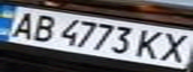3: (112, 24, 139, 56)
4: (54, 16, 81, 47)
7: (90, 20, 115, 53), (72, 19, 96, 51)
A: (0, 9, 42, 39)
B: (24, 12, 60, 43)
K: (133, 27, 172, 61)
X: (154, 29, 193, 64)
